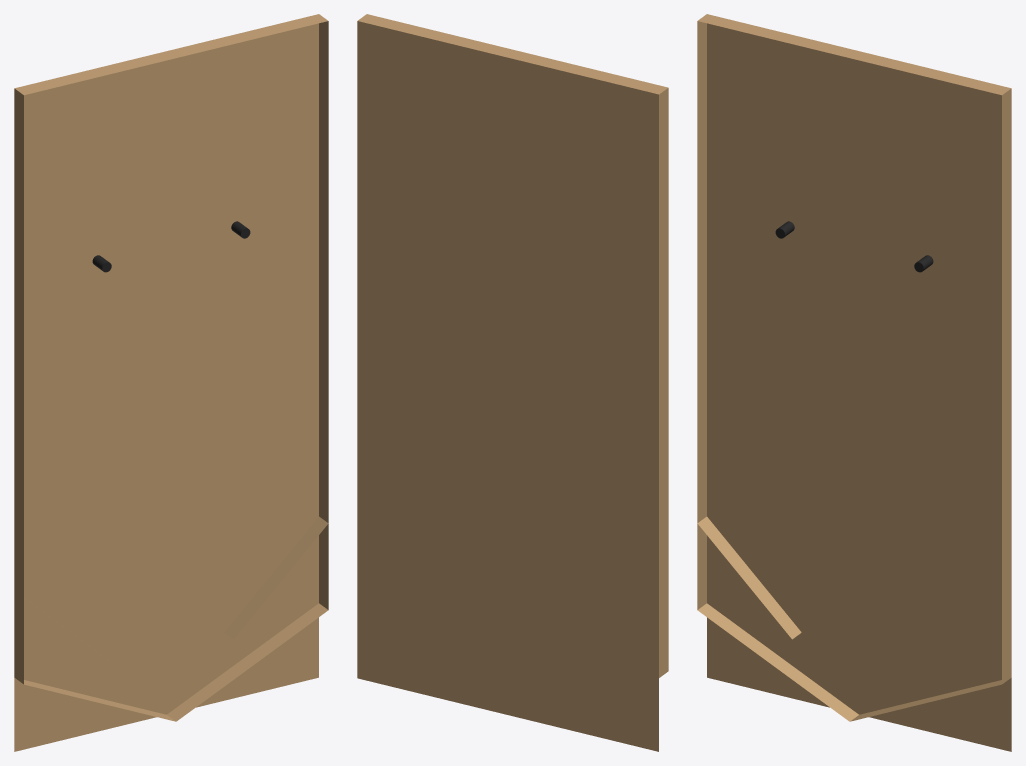
File: playfield.glb
3 renders of one model, left to right at view 1: azimuth 30°, elevation 25°; view 2: azimuth 150°, elevation 25°; view 3: azimuth 330°, elevation 25°, orthographic.
Parts seen in each view (by area): view 1: floor, walls[0], walls[1]; view 2: floor, walls[0], walls[1]; view 3: floor, walls[0], walls[1].
Boxes of the visible parts, x1=… form: floor: x1=14, y1=23, x2=318, y2=751; walls[0]: x1=14, y1=14, x2=328, y2=639; walls[1]: x1=14, y1=524, x2=328, y2=721; floor: x1=357, y1=21, x2=658, y2=751; walls[0]: x1=358, y1=14, x2=668, y2=591; walls[1]: x1=659, y1=585, x2=668, y2=677; floor: x1=707, y1=23, x2=1011, y2=751; walls[0]: x1=697, y1=14, x2=1011, y2=639; walls[1]: x1=697, y1=524, x2=1011, y2=721.
Size of the model in its own units: 0.514 by 1.07 by 0.028.
